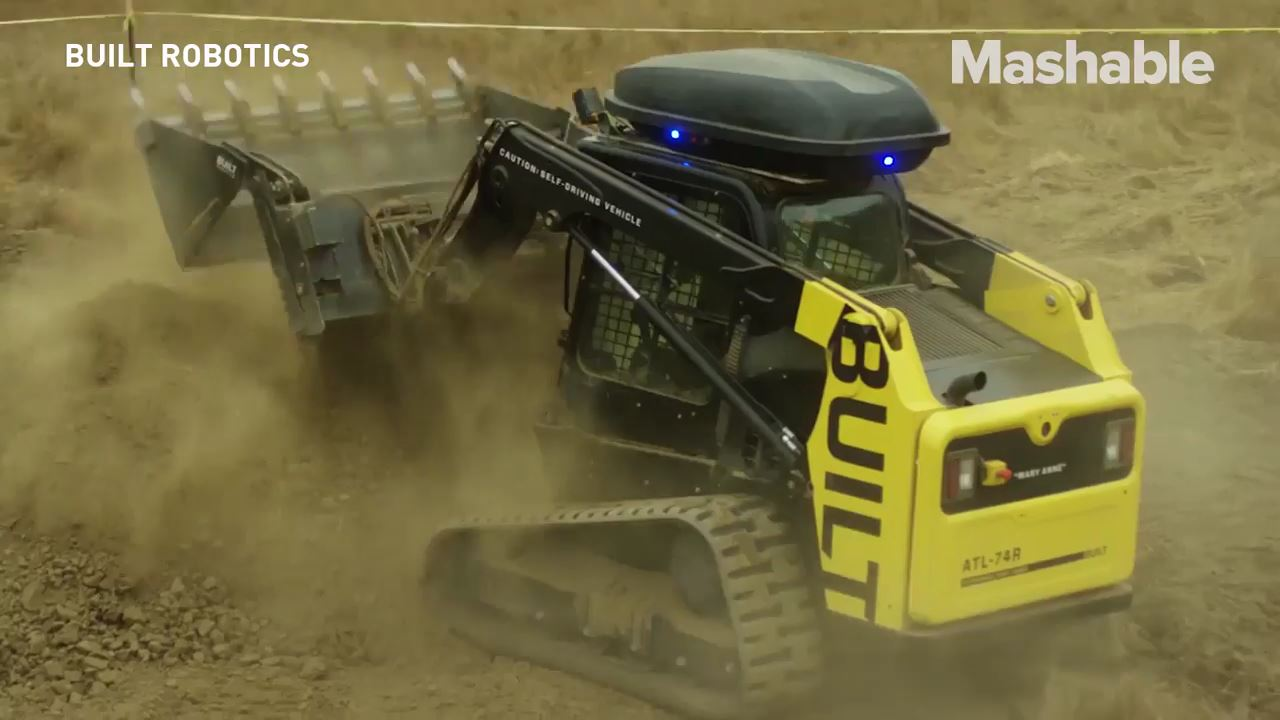con_eq: (107, 10, 1147, 712)
